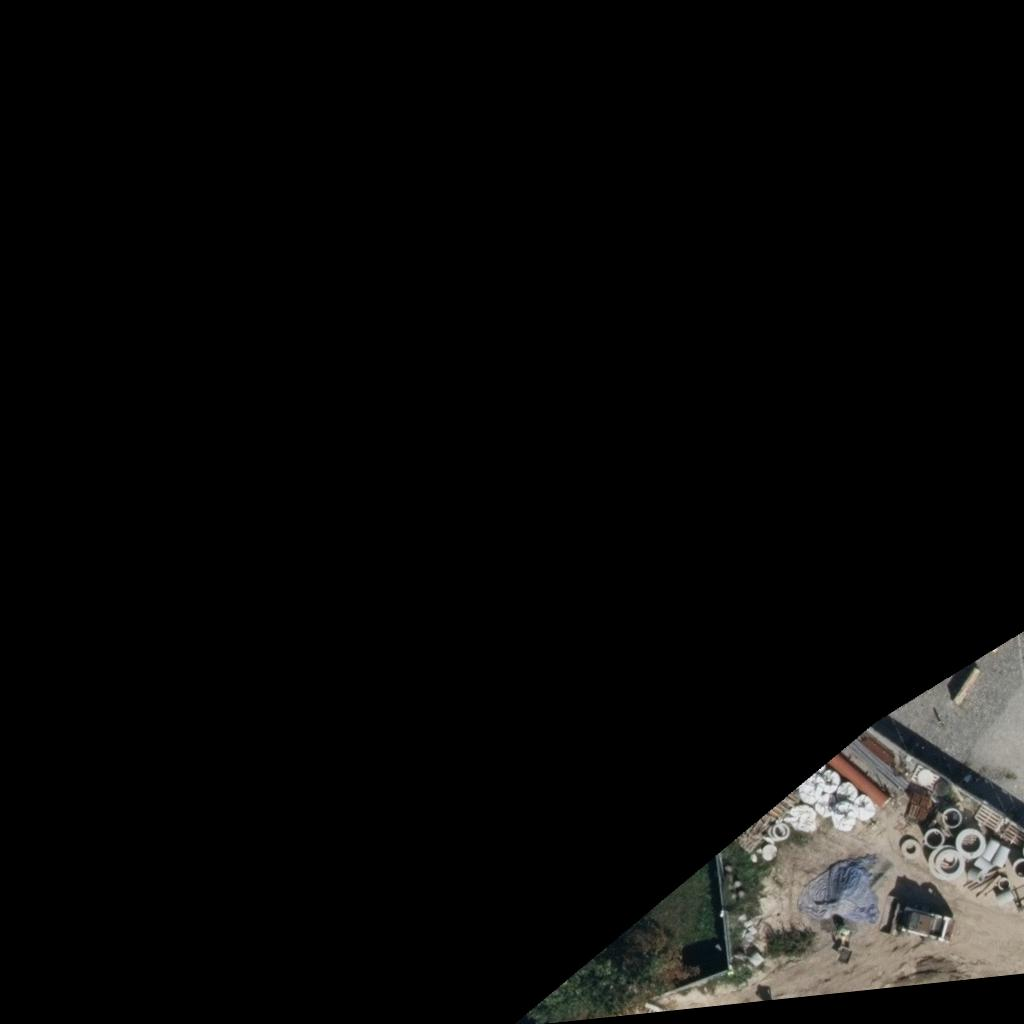spychacz: (876, 888, 957, 950)
